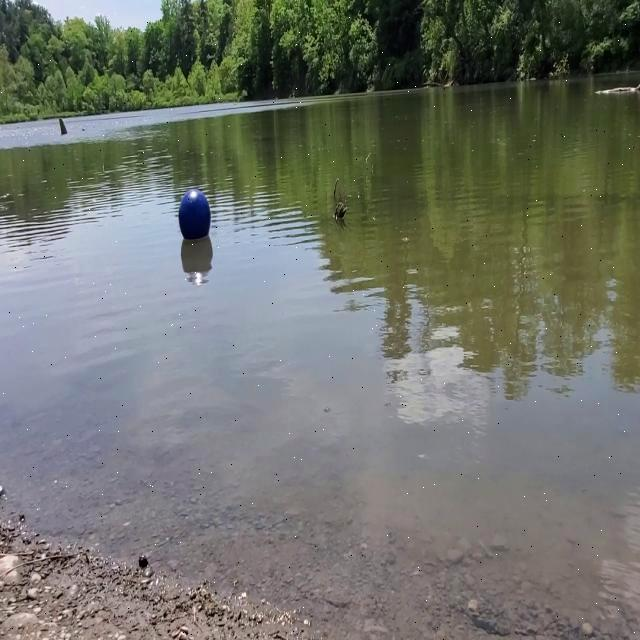buoy: (176, 184, 214, 246)
